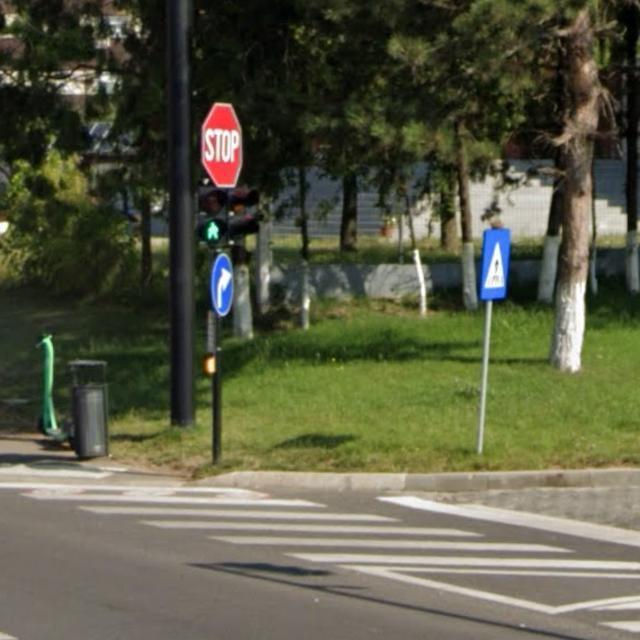info_crosswalk: (477, 227, 510, 300)
prio_stop: (200, 102, 243, 190)
